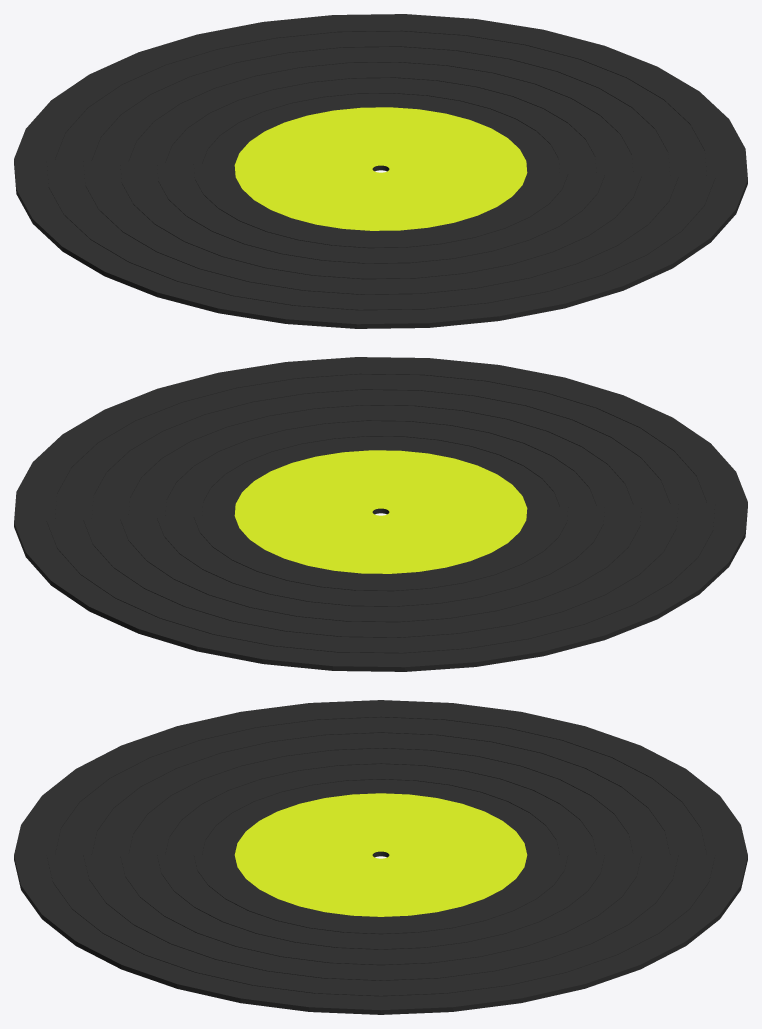
The model's file is a_NspNjwTYv.glb.
The picture shows the model from 3 angles, top to bottom: view 1: azimuth 30°, elevation 25°; view 2: azimuth 150°, elevation 25°; view 3: azimuth 270°, elevation 25°; orthographic projection.
Visible parts, largest first — view 1: Cylinder002; view 2: Cylinder002; view 3: Cylinder002.
Boxes of the visible parts, x1,y1,x2,y2 form: Cylinder002: [14, 14, 747, 328]; Cylinder002: [14, 357, 747, 671]; Cylinder002: [14, 700, 747, 1014].
Size of the model in its own units: 127 by 1.01 by 127.
